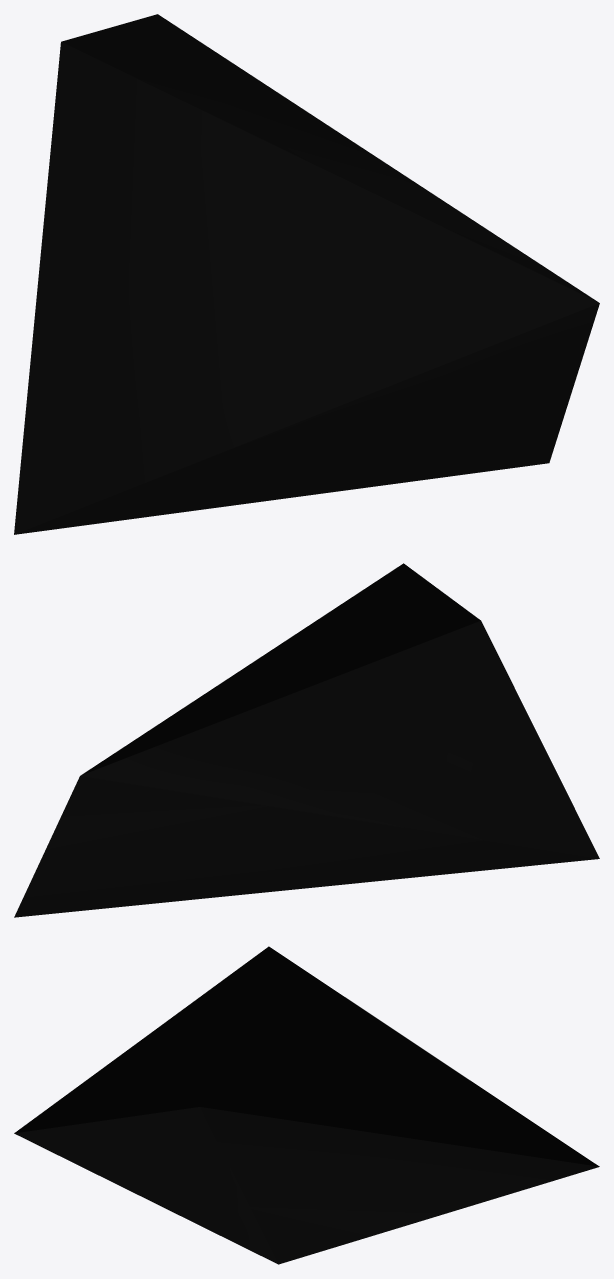
3 renders of one model, top to bottom at view 1: azimuth 30°, elevation 25°; view 2: azimuth 150°, elevation 25°; view 3: azimuth 270°, elevation 25°, orthographic. The views are drawn at different scales.
Size of the model in its own units: 0.0666 by 0.0403 by 0.1004.
Materials: 1 (1 with a texture image).
